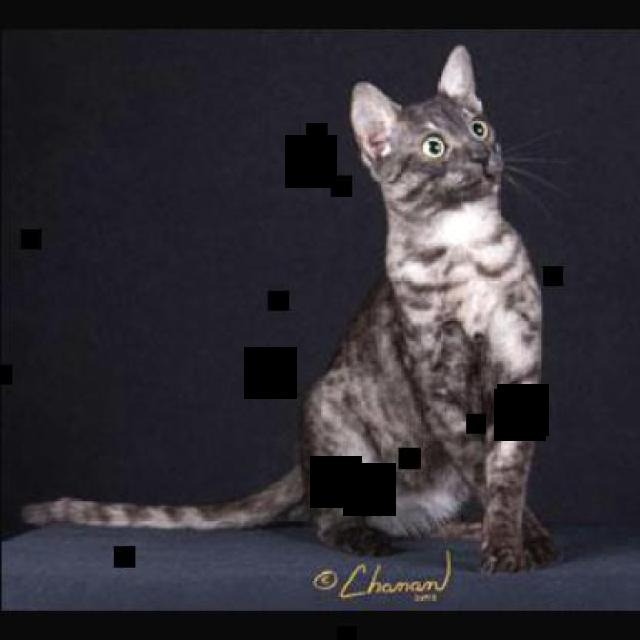unauthorized: (19, 41, 562, 574)
